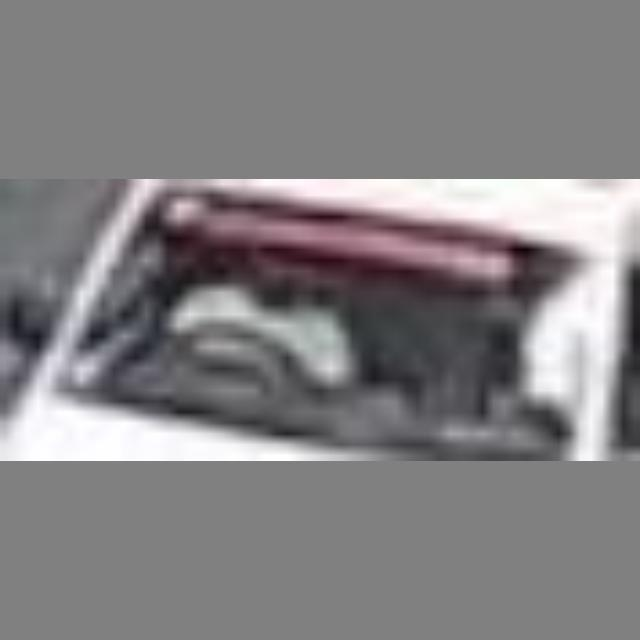tidak-pakai: (174, 266, 380, 396)
